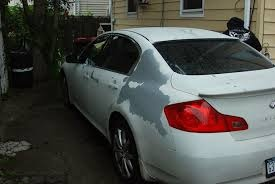Scratch: (117, 49, 172, 135)
